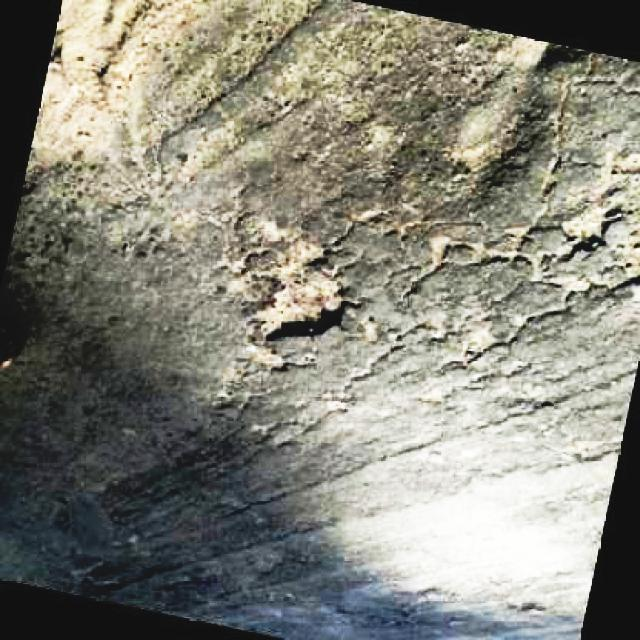pothole: (515, 171, 640, 311), (235, 218, 351, 348)
